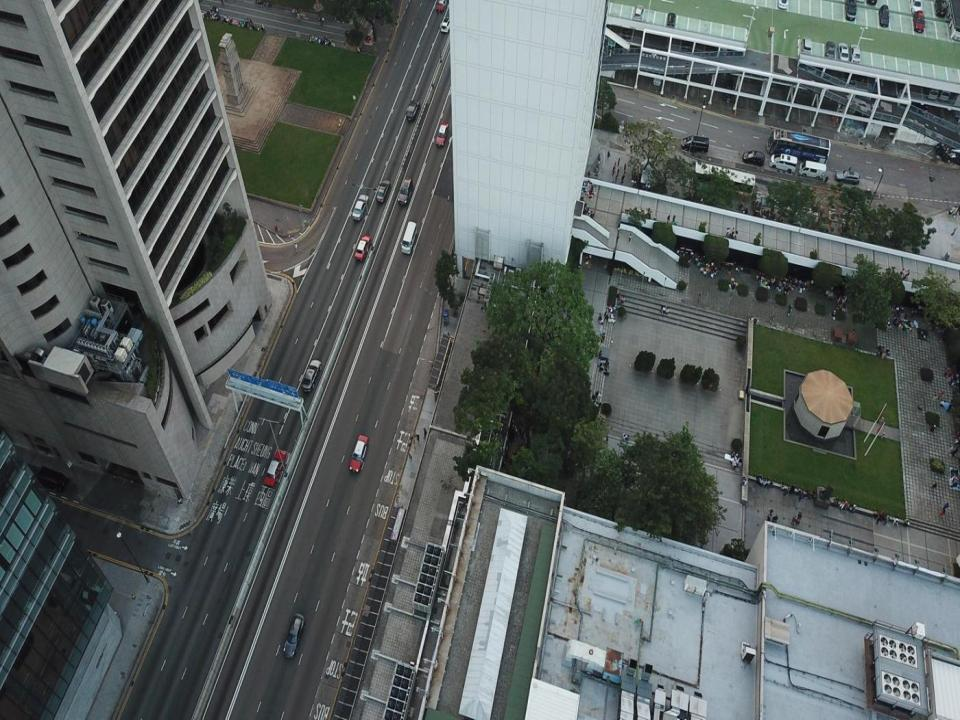bus: (766, 129, 831, 167), (693, 162, 756, 200), (926, 78, 938, 100), (940, 78, 950, 102)
car: (16, 464, 66, 492), (283, 613, 305, 658), (264, 450, 287, 486), (349, 434, 368, 472), (301, 359, 322, 393), (354, 235, 371, 261), (398, 177, 413, 206), (352, 194, 368, 220), (375, 179, 390, 203), (835, 170, 859, 185), (742, 151, 764, 166), (436, 123, 449, 147), (406, 100, 420, 122), (723, 79, 734, 103), (917, 92, 928, 114), (850, 44, 861, 65), (914, 11, 924, 32), (801, 37, 812, 56), (825, 41, 836, 60), (879, 6, 889, 26), (806, 57, 817, 75), (838, 43, 848, 62), (633, 5, 644, 22), (682, 34, 691, 53), (440, 16, 450, 33), (666, 13, 676, 28), (653, 68, 661, 86), (847, 66, 855, 84), (952, 23, 960, 40), (623, 22, 631, 38), (436, 0, 447, 11), (859, 69, 867, 83), (622, 40, 629, 55), (778, 0, 787, 10)
van: (400, 221, 417, 254), (769, 154, 797, 174), (681, 136, 709, 154), (799, 161, 825, 179), (845, 0, 856, 21), (935, 1, 947, 17), (910, 0, 922, 14), (720, 43, 728, 57)
